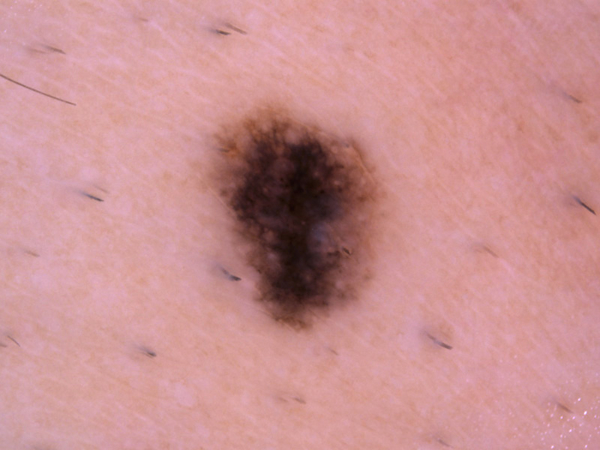Detected Lesion: (210, 104, 386, 336)
